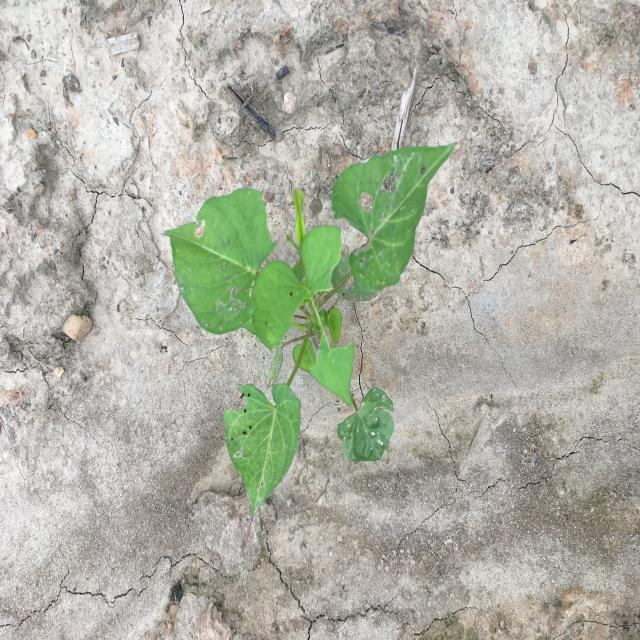MorningGlory: (162, 142, 459, 516)
